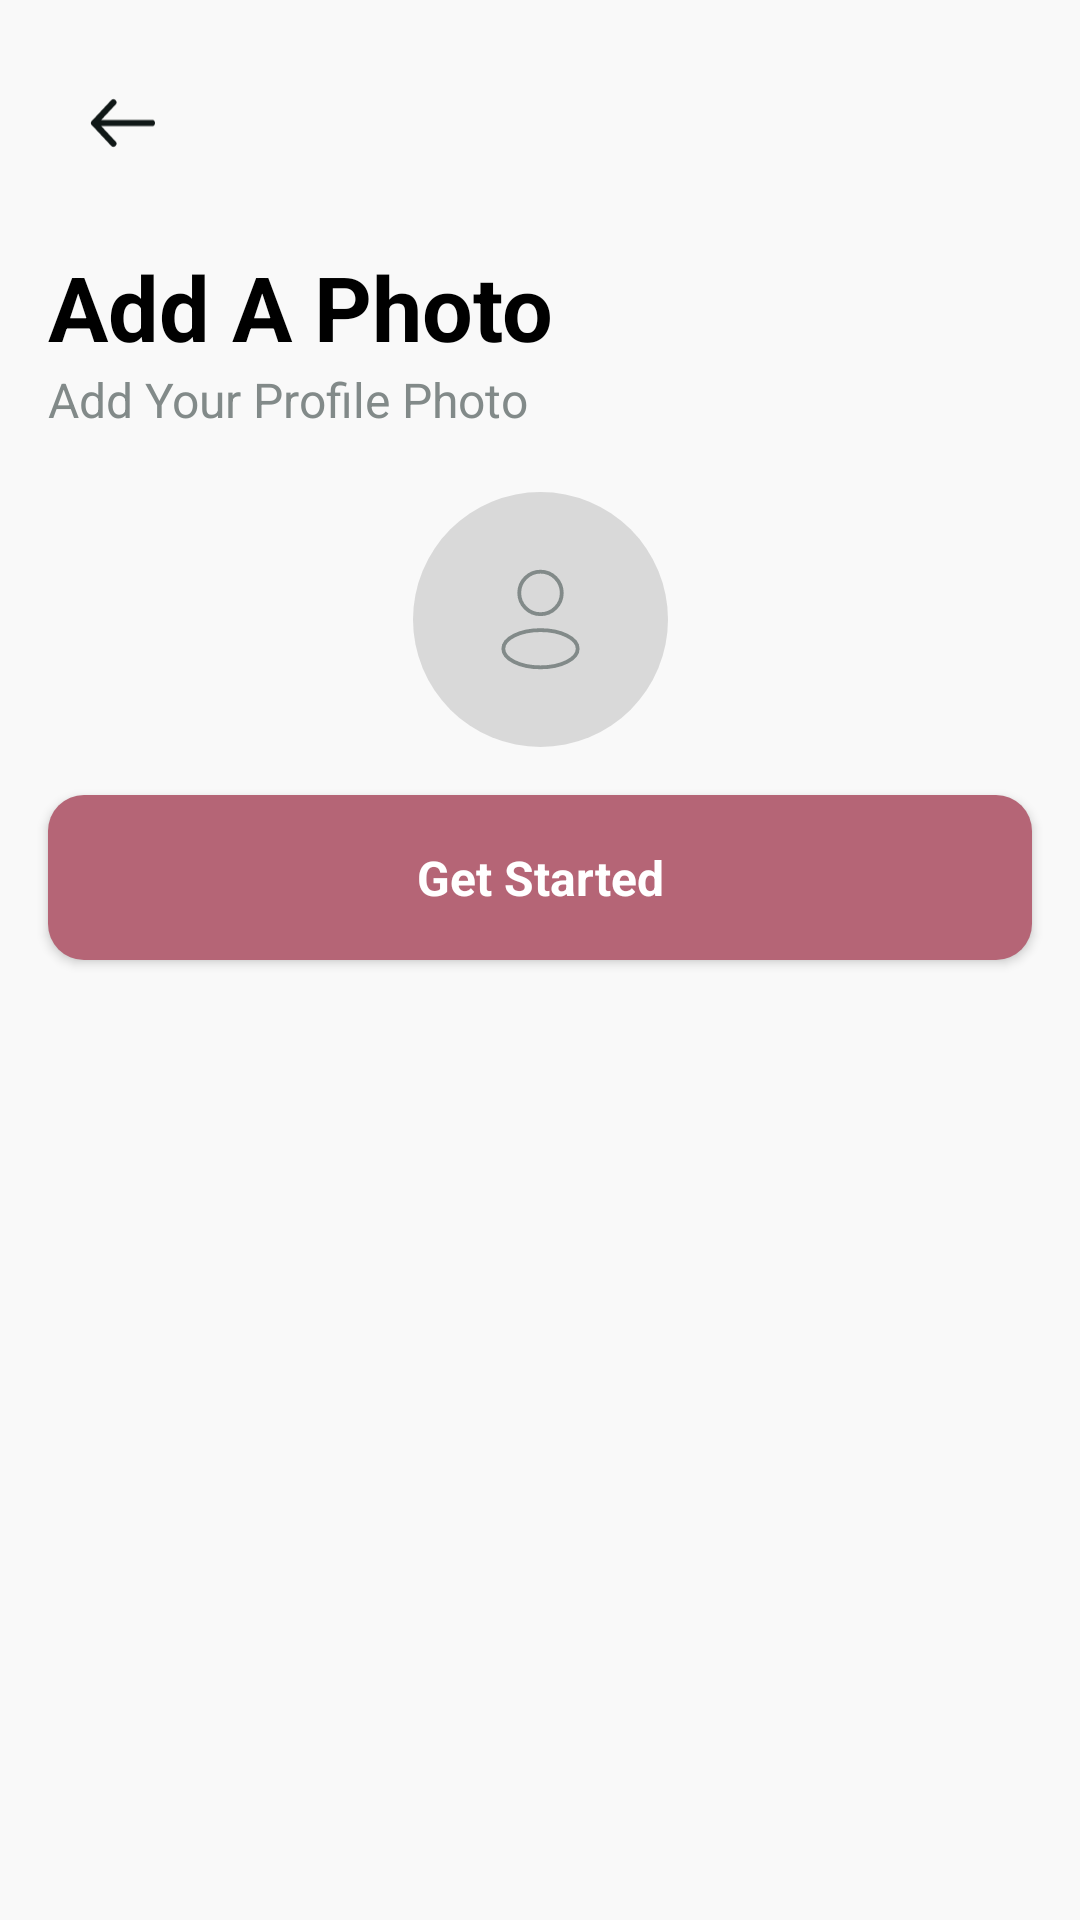

Point at icon controls on the screen. Image size 1080px×1920px, points as [x,y].
back: [123,123]
